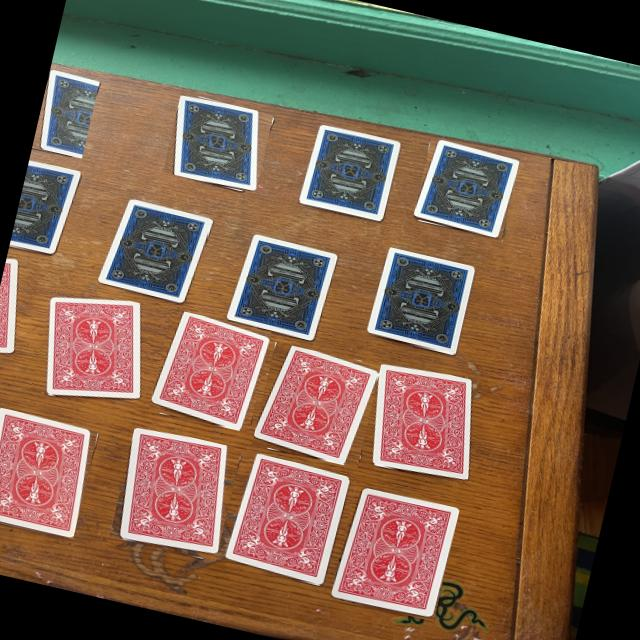card back: (331, 488, 459, 617), (226, 455, 347, 585), (255, 346, 377, 464), (151, 312, 269, 430), (119, 430, 226, 555), (98, 199, 211, 303), (0, 408, 90, 538), (227, 235, 336, 339), (373, 366, 471, 480), (367, 248, 473, 353), (413, 141, 518, 237), (46, 298, 140, 399), (299, 126, 399, 220), (174, 96, 259, 190), (9, 162, 80, 254), (40, 70, 99, 158), (0, 259, 18, 354)
